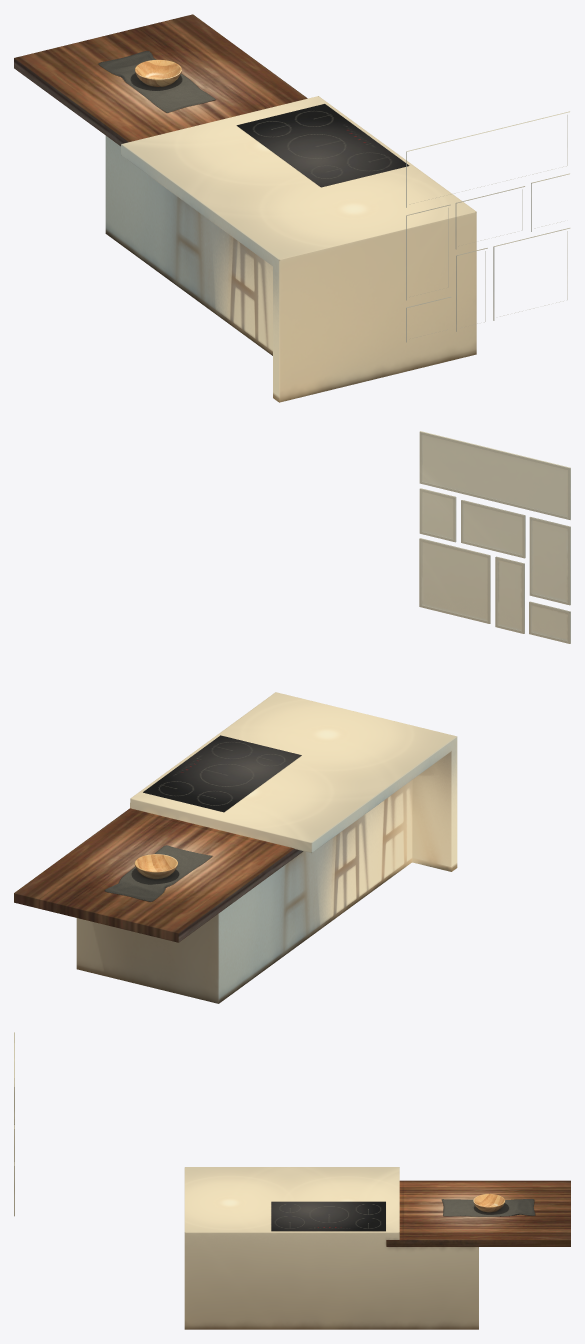
Rendered from bat&table.glb.
3 views of the same model, one above another, from view 1: azimuth 30°, elevation 25°; view 2: azimuth 150°, elevation 25°; view 3: azimuth 270°, elevation 25° (orthographic). The views are drawn at different scales.
Parts seen in each view (by area): view 1: SM_Counter_Stove_BowlTowel_Frames_surfaceShader2_0, SM_Counter_Stove_BowlTowel_Frames_surfaceShader2_0.001; view 2: SM_Counter_Stove_BowlTowel_Frames_surfaceShader2_0, SM_Counter_Stove_BowlTowel_Frames_surfaceShader2_0.001; view 3: SM_Counter_Stove_BowlTowel_Frames_surfaceShader2_0, SM_Counter_Stove_BowlTowel_Frames_surfaceShader2_0.001.
Part boxes in pixels (x1,y1,x2,y2): SM_Counter_Stove_BowlTowel_Frames_surfaceShader2_0: (14, 14, 570, 402); SM_Counter_Stove_BowlTowel_Frames_surfaceShader2_0.001: (135, 59, 181, 86); SM_Counter_Stove_BowlTowel_Frames_surfaceShader2_0: (14, 431, 570, 1003); SM_Counter_Stove_BowlTowel_Frames_surfaceShader2_0.001: (134, 854, 177, 878); SM_Counter_Stove_BowlTowel_Frames_surfaceShader2_0: (14, 1032, 570, 1329); SM_Counter_Stove_BowlTowel_Frames_surfaceShader2_0.001: (473, 1193, 505, 1212).
Size of the model in its own units: 1.26 by 2.08 by 4.51.
1 material, 1 textured.
